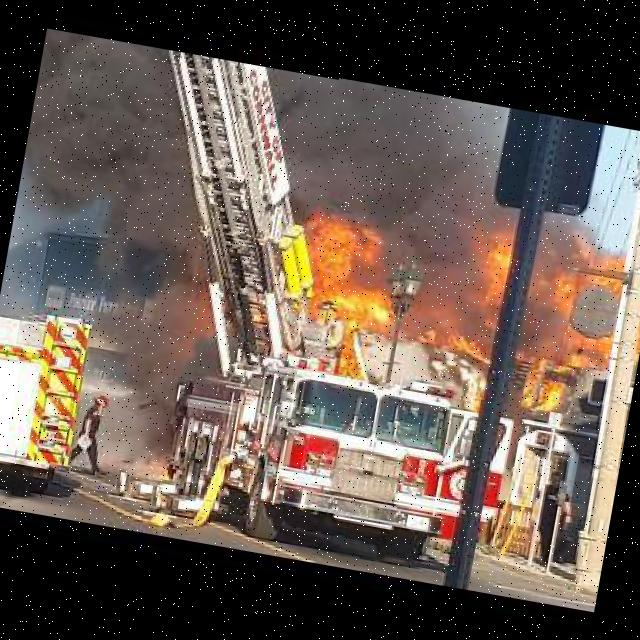fire: (288, 75, 640, 419)
